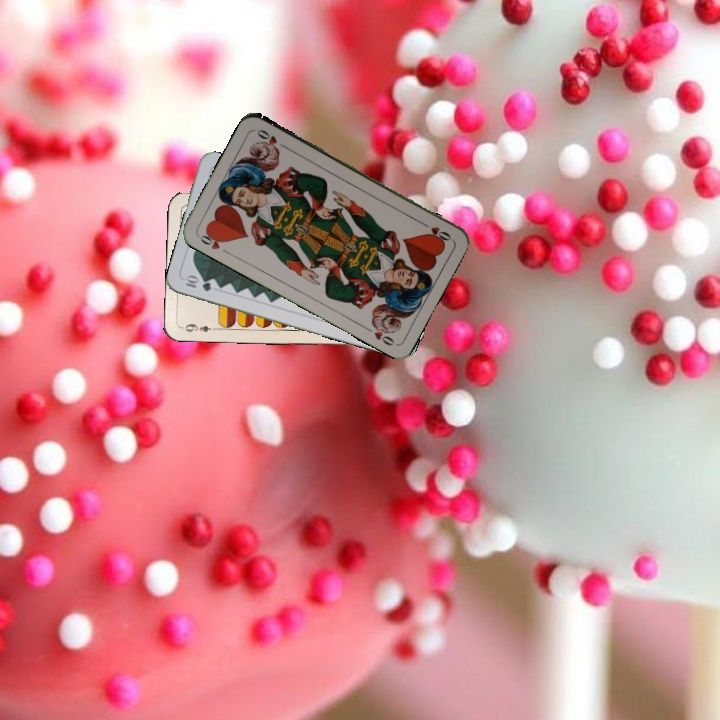E9: (178, 320, 219, 335)
G10: (182, 272, 214, 294)
HO: (194, 227, 231, 257), (417, 218, 454, 243)
